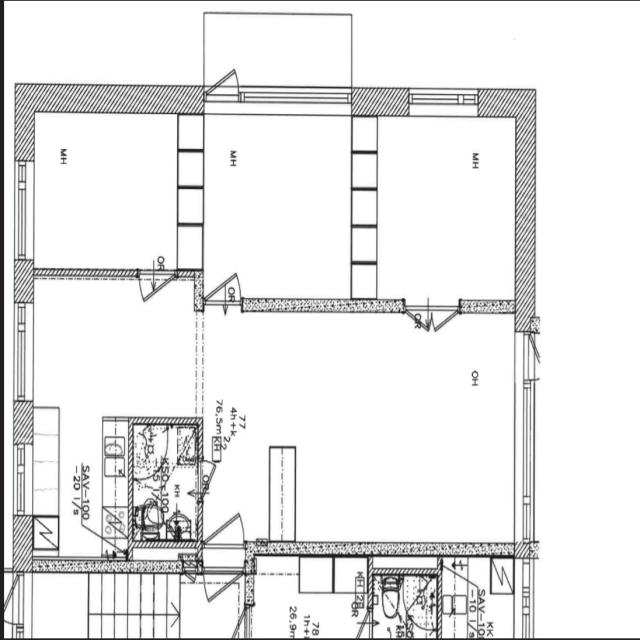door: (202, 511, 252, 546), (197, 565, 247, 600), (203, 275, 247, 314), (207, 66, 247, 106), (136, 266, 175, 307), (427, 304, 462, 335), (402, 307, 429, 337)
window: (505, 375, 549, 632), (242, 77, 352, 119), (405, 77, 484, 126), (9, 289, 37, 407), (10, 150, 36, 265), (9, 434, 34, 524)
